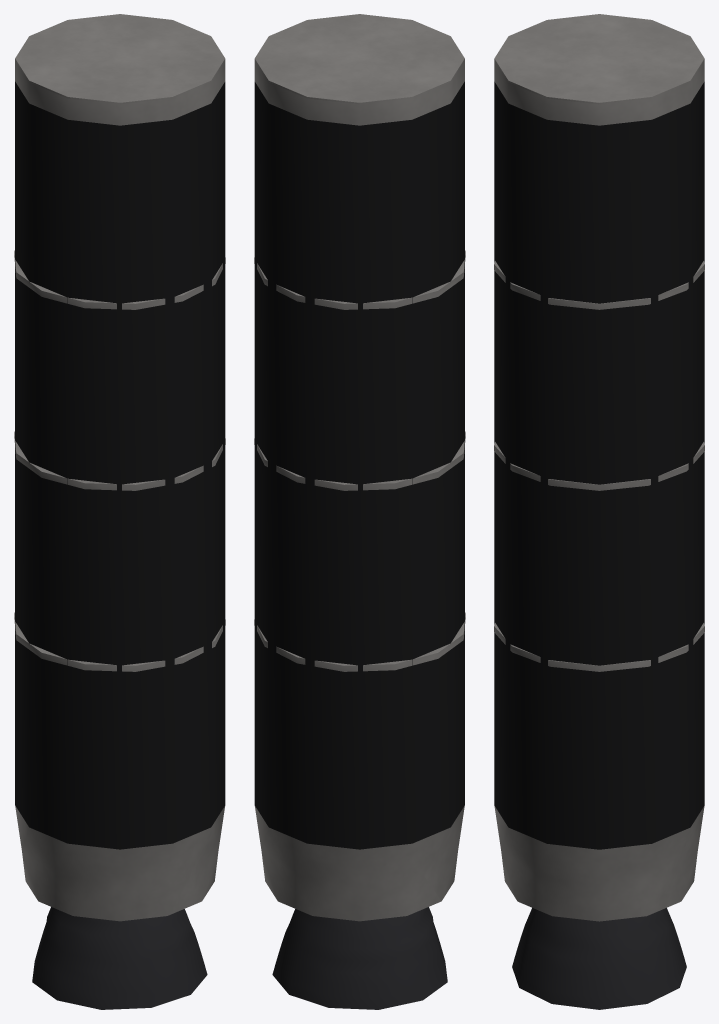
Rendered from prop21_srb_medium_core.glb.
3 views of the same model, side by side, from view 1: azimuth 30°, elevation 25°; view 2: azimuth 150°, elevation 25°; view 3: azimuth 270°, elevation 25° (orthographic).
Visible parts, largest first — view 1: case, forward_skirt, nozzle, aft_skirt, segment_joints; view 2: case, forward_skirt, nozzle, aft_skirt, segment_joints; view 3: case, forward_skirt, nozzle, aft_skirt, segment_joints.
Boxes of the visible parts, x1=… form: case: x1=15, y1=81, x2=225, y2=849; forward_skirt: x1=15, y1=14, x2=225, y2=125; nozzle: x1=32, y1=907, x2=207, y2=1009; aft_skirt: x1=15, y1=805, x2=225, y2=921; segment_joints: x1=14, y1=250, x2=225, y2=671; case: x1=254, y1=81, x2=464, y2=849; forward_skirt: x1=254, y1=14, x2=464, y2=125; nozzle: x1=272, y1=907, x2=447, y2=1009; aft_skirt: x1=254, y1=805, x2=464, y2=921; segment_joints: x1=254, y1=250, x2=465, y2=671; case: x1=494, y1=81, x2=704, y2=849; forward_skirt: x1=494, y1=14, x2=704, y2=125; nozzle: x1=512, y1=908, x2=686, y2=1009; aft_skirt: x1=494, y1=806, x2=704, y2=921; segment_joints: x1=494, y1=261, x2=704, y2=671.
Bounding box in the file's own units: 2.51 × 12 × 2.51.
4 materials, 2 textured.
